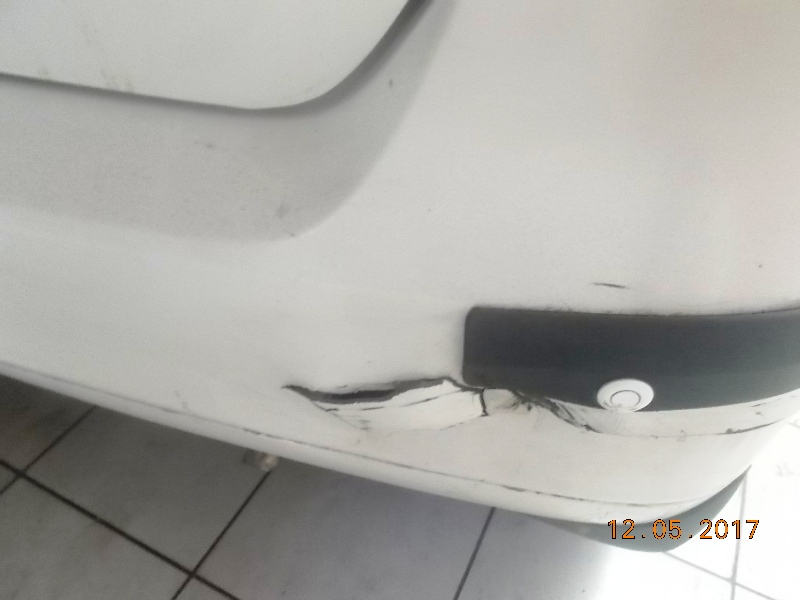Scratch_or_spot: (480, 384, 555, 438)
Tear: (296, 364, 460, 438)
